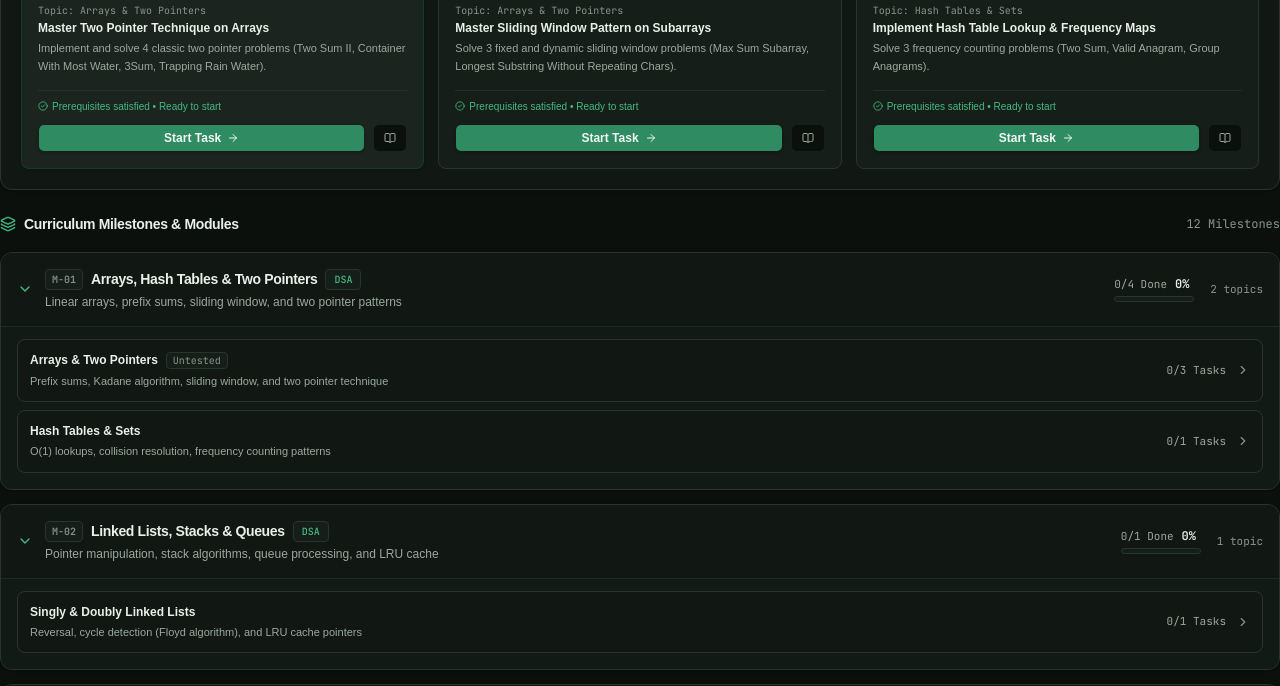
Test case: F-UI-PRE-NAV: lock explanation names the real blocker › does not claim a prerequisite when the task is only phase locked
The image size is (1280, 686).
(page scrolled)
Click the text "Arrays & Two Pointers".
click(94, 360)  # box [30,352,158,368]
(page scrolled)
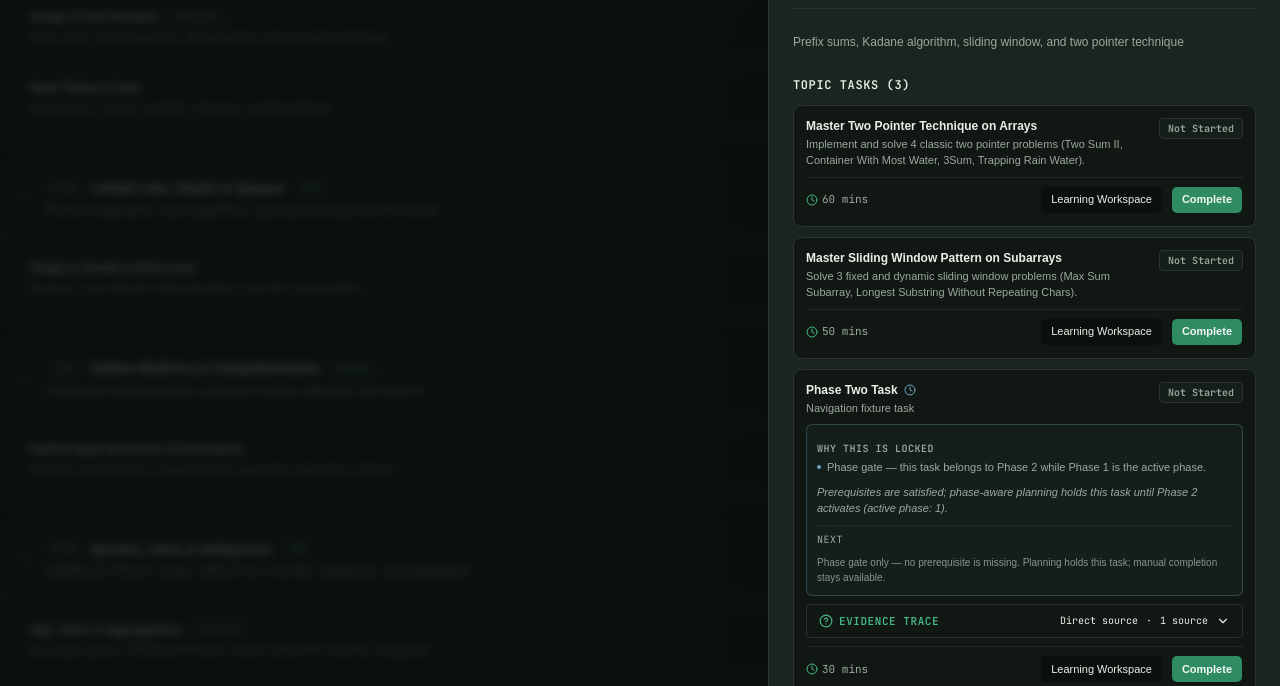
expect the list item with test id "lock-blocker-phase-two-task-0" shows "Phase gate": met, box [827,461,1206,473]
expect the list item with test id "lock-blocker-phase-two-task-0" shows "Phase 2": met, box [827,461,1206,473]
expect the text with test id "lock-why-phase-two-task" shows "Prerequisites are satisfied": met, box [817,486,1197,514]
